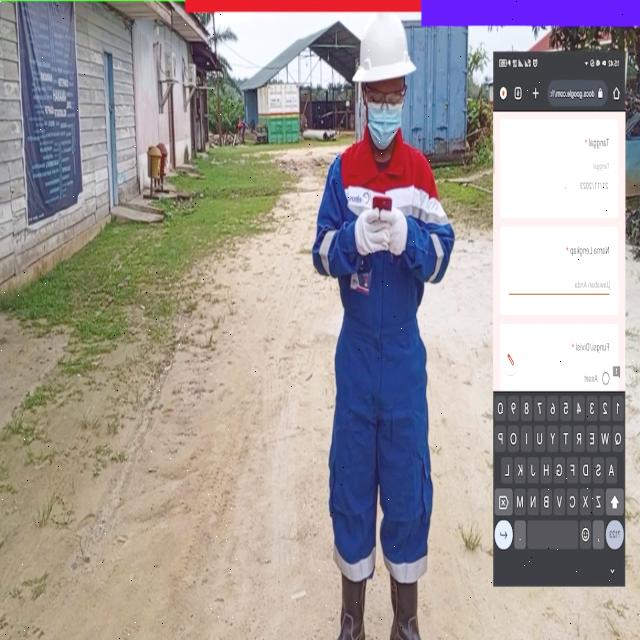Gloves: (356, 211, 389, 260), (380, 204, 406, 256)
Hardhat: (352, 17, 418, 87)
Mask: (367, 104, 402, 152)
Overall Suit: (311, 144, 455, 590)
Safety Boots: (390, 574, 428, 640), (337, 575, 370, 640)
